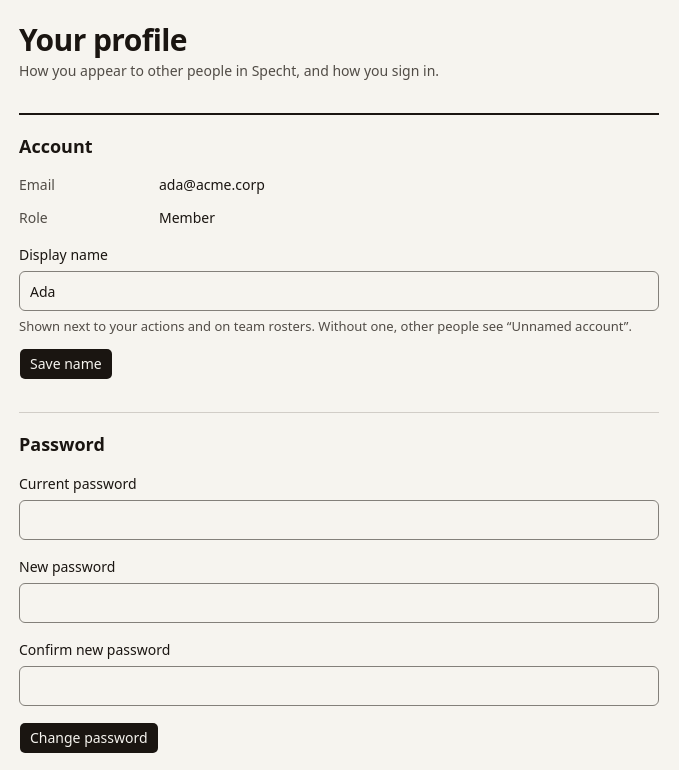
Profile › changing the password › refuses two entries that differ, without asking the server
Type "old-password-1" into the password field labelled "Current password".
click(339, 520); type("old-password-1")  # box left=19, top=500, right=659, bottom=540
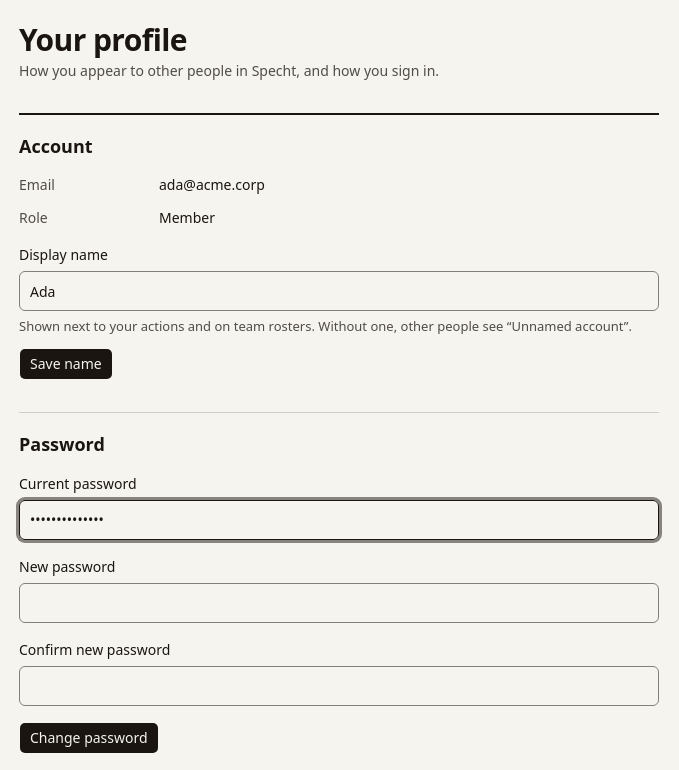
Type "new-password-1" into the password field labelled "New password".
click(339, 603); type("new-password-1")  # box left=19, top=583, right=659, bottom=623
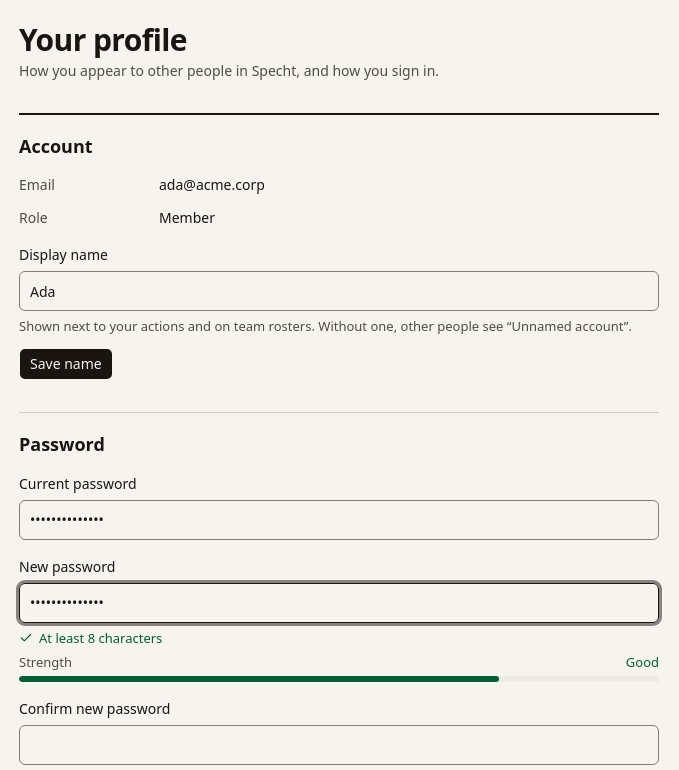
Type "new-password-2" into the password field labelled "Confirm new password".
click(339, 745); type("new-password-2")  # box left=19, top=725, right=659, bottom=765
(page scrolled)
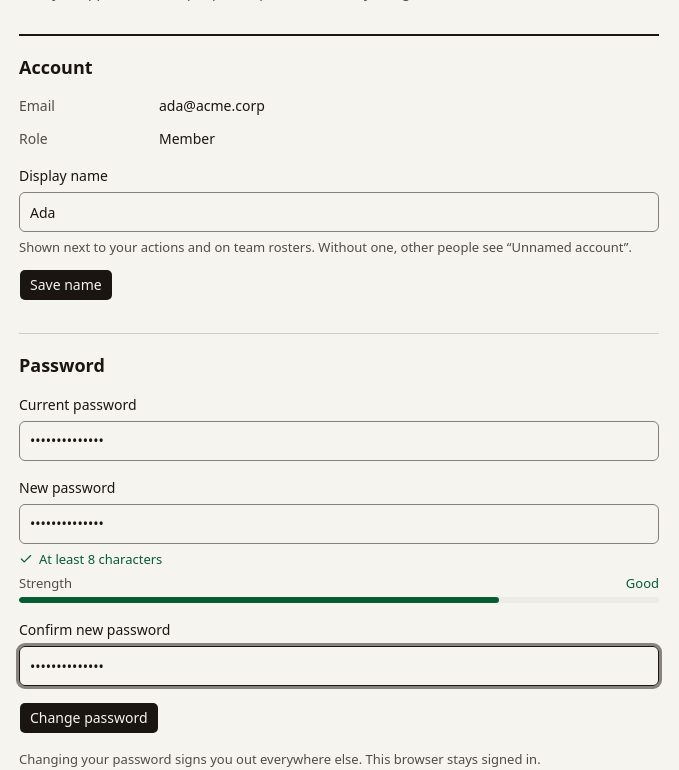
Click the button "Change password".
click(89, 718)  # box left=19, top=702, right=159, bottom=734
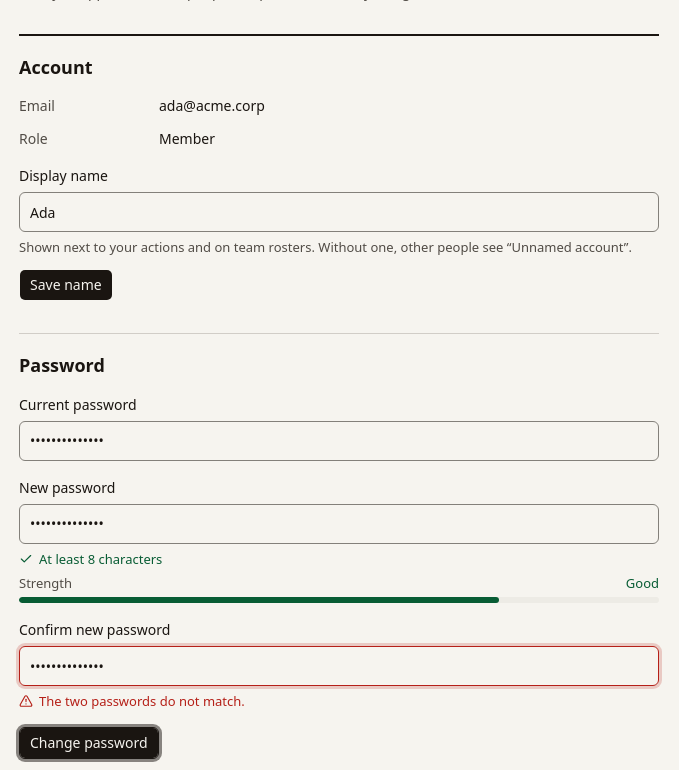
Expected: the text "The two passwords do not match." is shown, left=19, top=692, right=245, bottom=710
